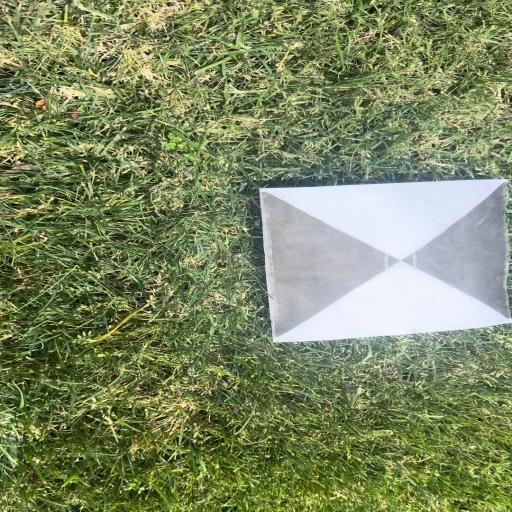target: (263, 177, 511, 343)
